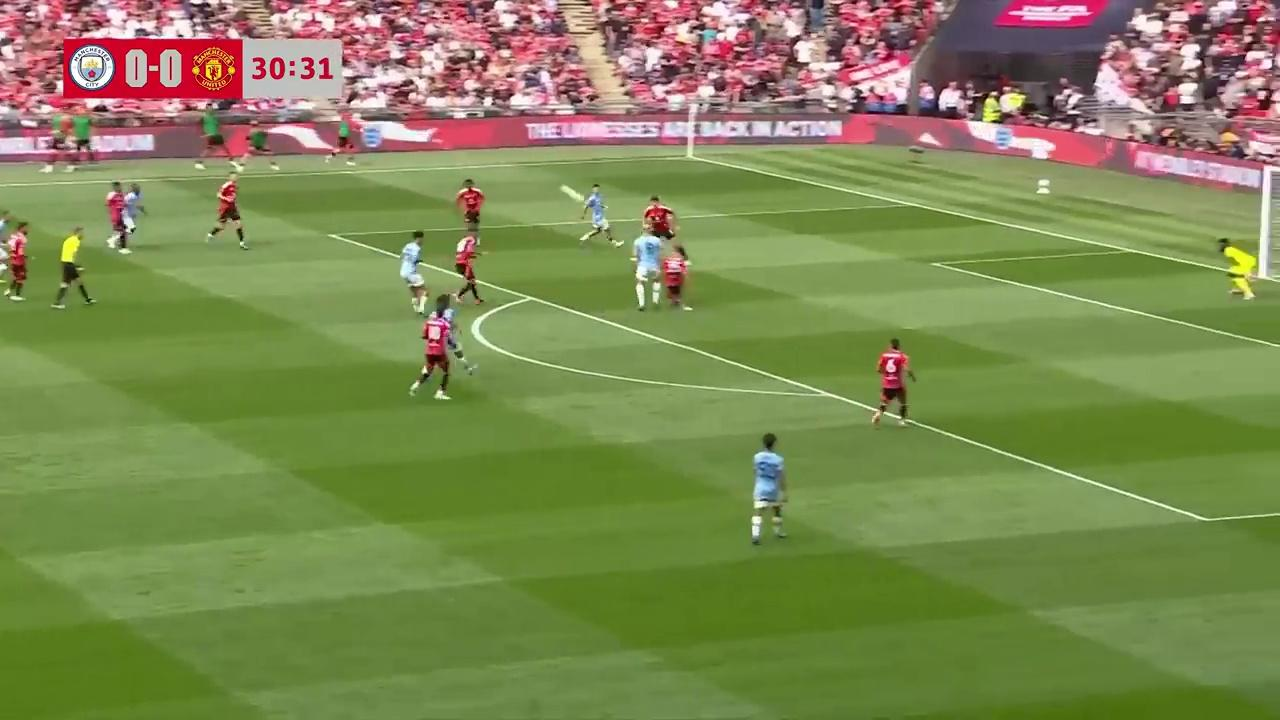player: (408, 299, 457, 401), (750, 432, 787, 544), (871, 337, 916, 428), (431, 297, 476, 378), (204, 173, 249, 250), (629, 225, 663, 312), (578, 183, 618, 248), (1, 220, 32, 301), (1218, 237, 1255, 300), (659, 241, 691, 312), (454, 230, 484, 305), (399, 231, 426, 312), (642, 195, 677, 254), (105, 181, 132, 252), (118, 182, 145, 252), (455, 178, 485, 239)
referee: (50, 226, 96, 309)
